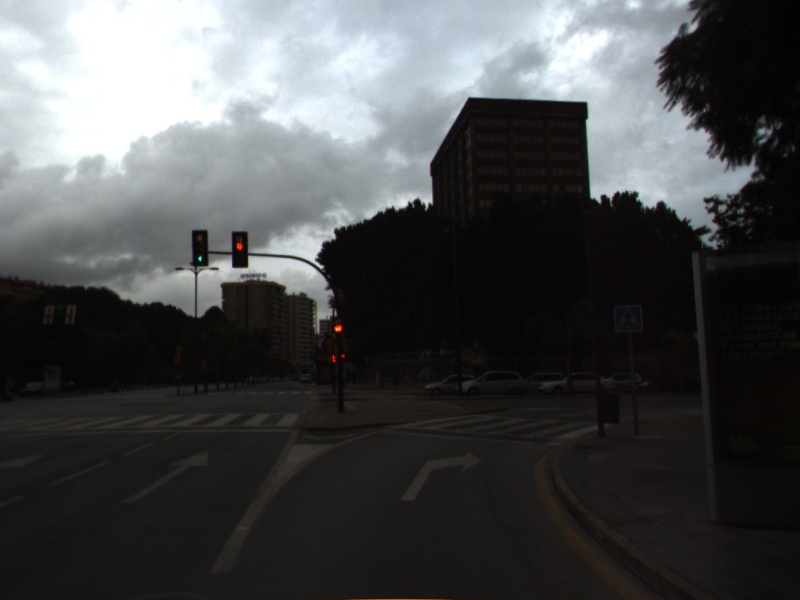RIGHT: (397, 449, 485, 504)
STRAIGHT: (119, 447, 211, 506)
